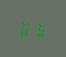six: (32, 19, 44, 37)
zero: (19, 19, 31, 36)
